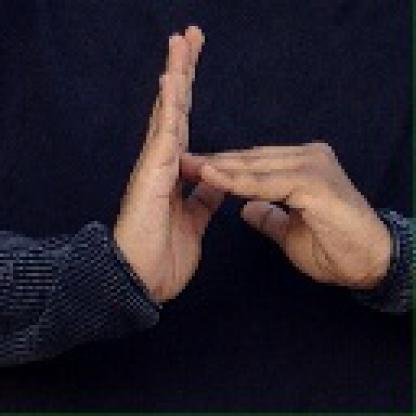Z: (132, 21, 366, 292)
